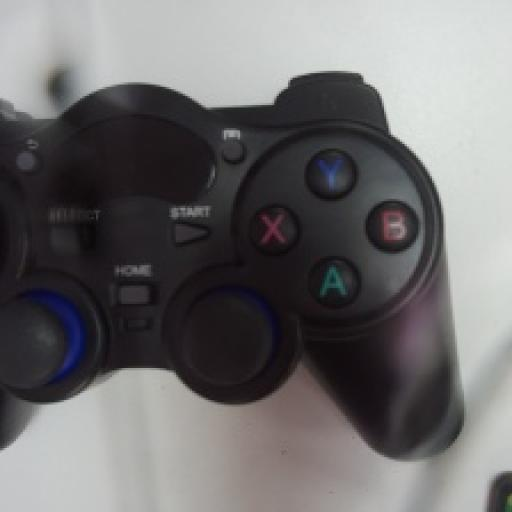game pad: (0, 73, 462, 457)
